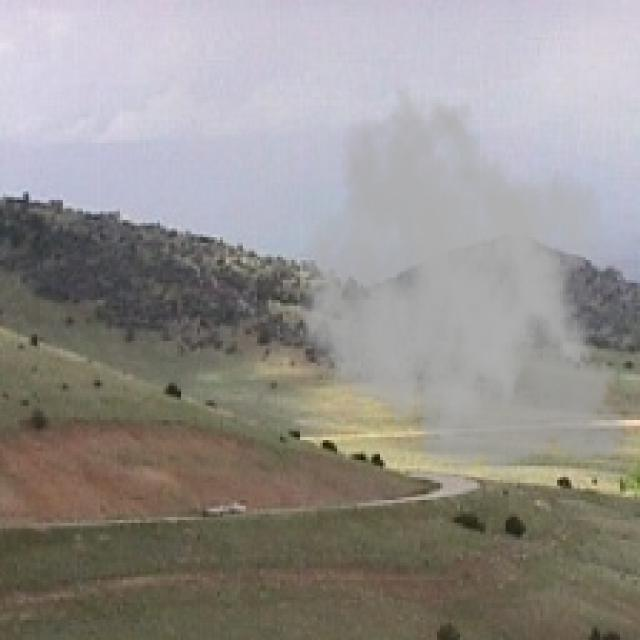smoke: (297, 83, 637, 488)
